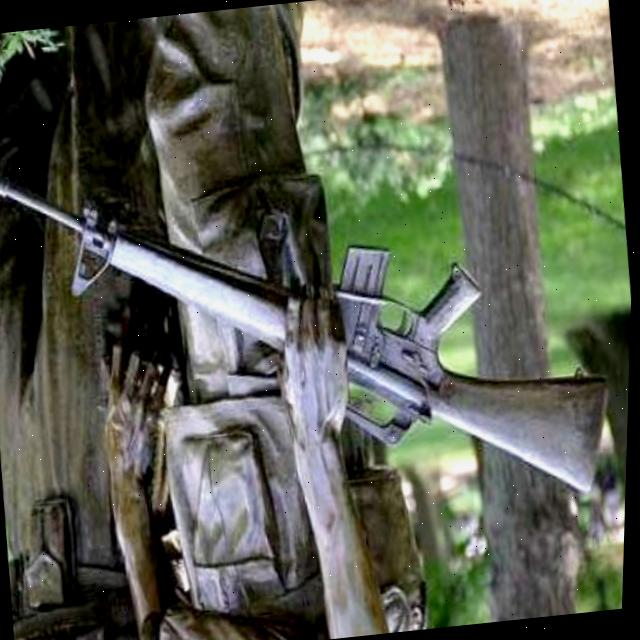rifle: (0, 109, 621, 583)
